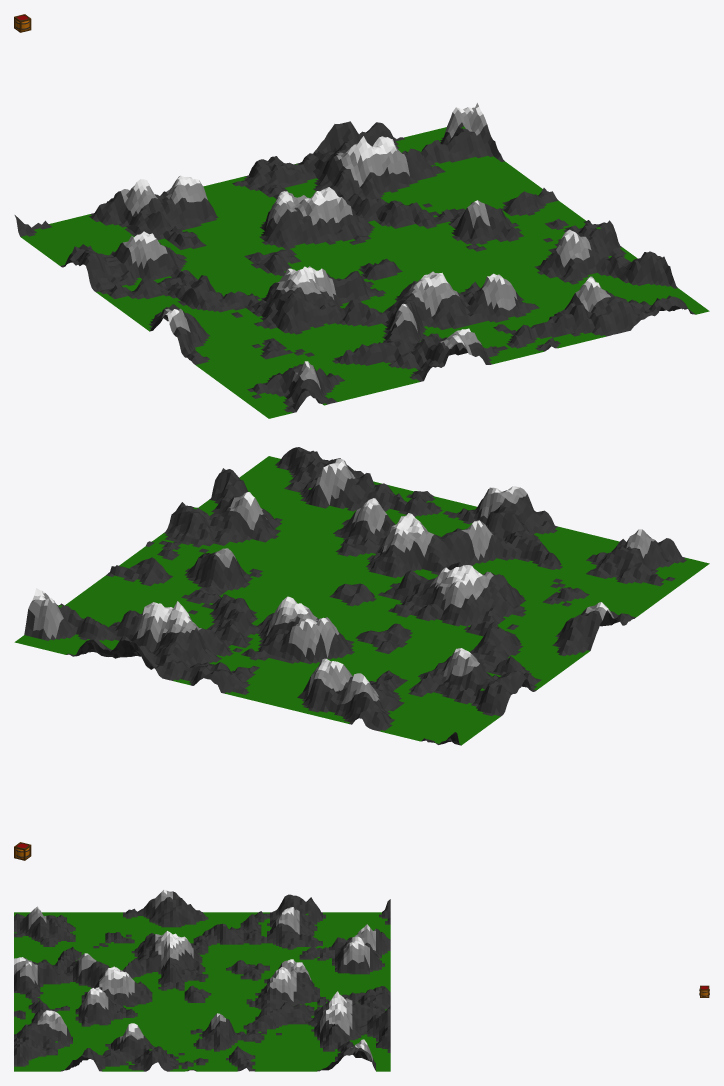
File: barrel.fbx
3 renders of one model, top to bottom at view 1: azimuth 30°, elevation 25°; view 2: azimuth 150°, elevation 25°; view 3: azimuth 270°, elevation 25°, orthographic. The views are drawn at different scales.
Visible parts, largest first — view 1: Map; view 2: Map; view 3: Map.
Boxes of the visible parts, x1,y1,x2,y2 form: Map: (14, 103, 709, 418); Map: (14, 447, 709, 745); Map: (14, 889, 390, 1071).
Size of the model in its own units: 8005 by 909 by 14788.
